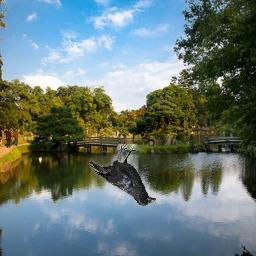Crow: (90, 144, 157, 206)
